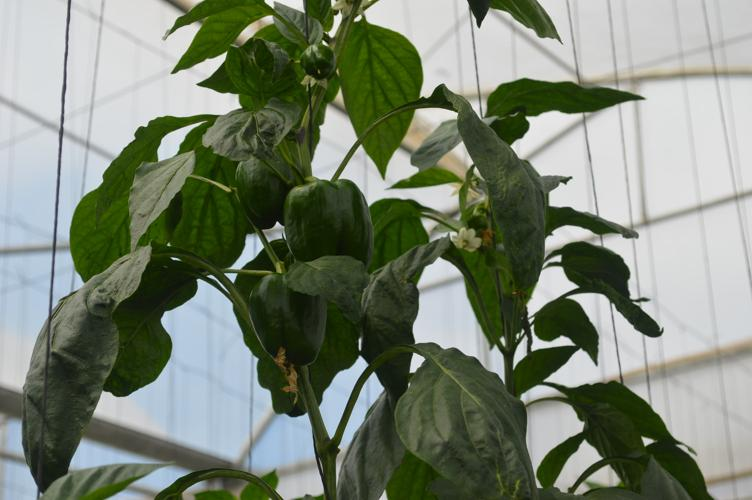BellPepper: (285, 178, 378, 271), (250, 272, 329, 368), (235, 157, 286, 234), (300, 40, 335, 80)
